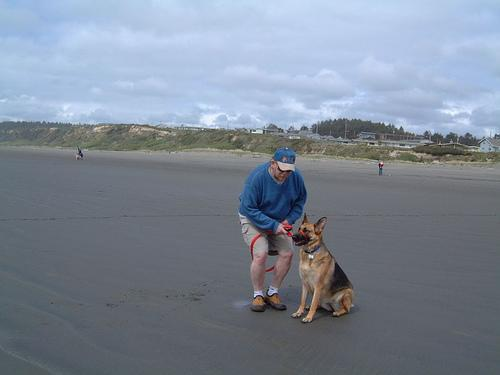German_shepherd: (291, 211, 357, 323)
